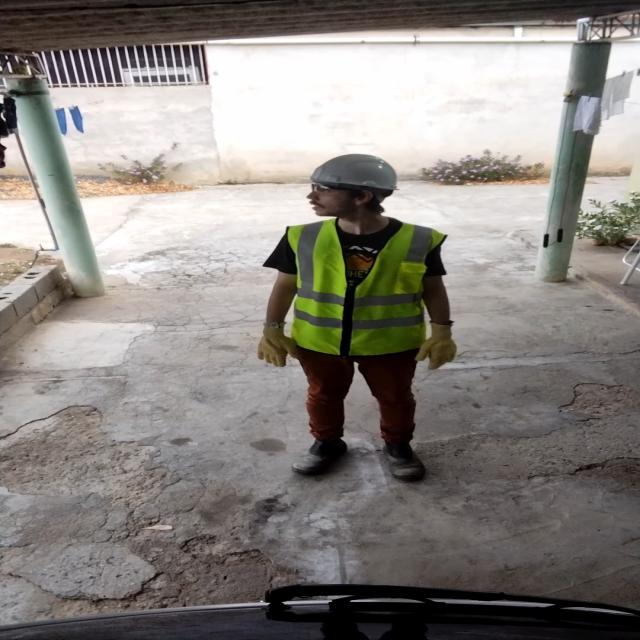glove: (415, 320, 461, 368), (255, 318, 295, 369)
helmet: (299, 152, 412, 201)
pants: (289, 353, 427, 454)
vest: (283, 219, 453, 354)
